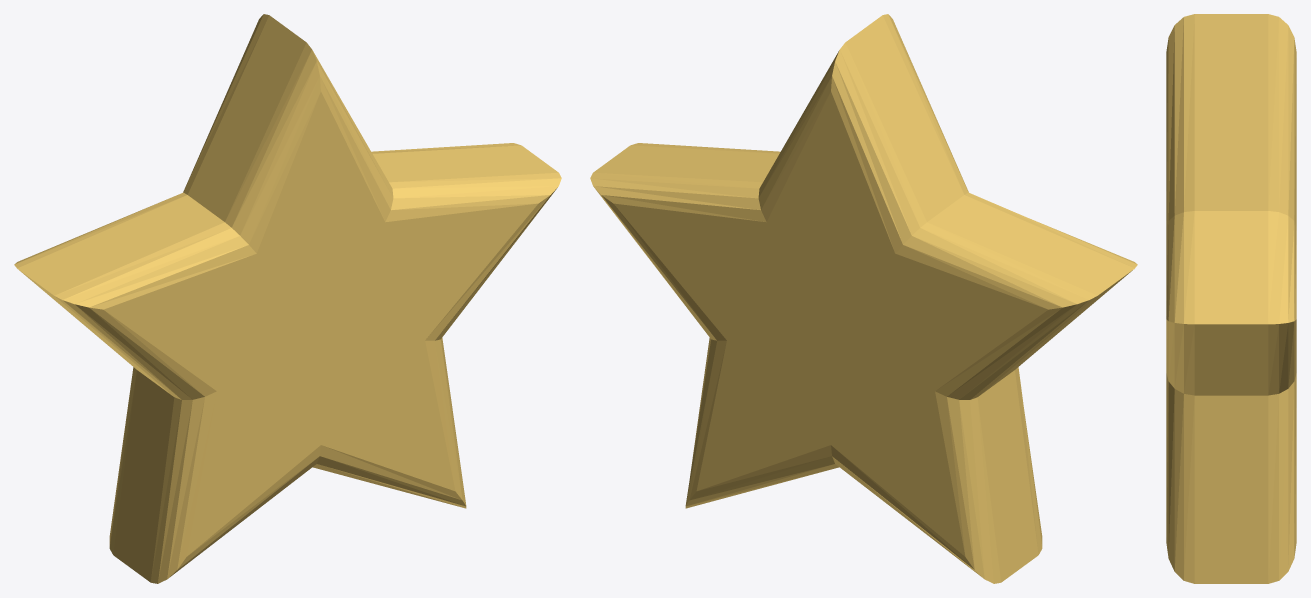
The model's file is star.glb.
3 views of the same model, side by side, from view 1: azimuth 30°, elevation 25°; view 2: azimuth 150°, elevation 25°; view 3: azimuth 270°, elevation 25° (orthographic).
Visible parts, largest first — view 1: Star_beveled_body; view 2: Star_beveled_body; view 3: Star_beveled_body.
Boxes of the visible parts, <box> form: Star_beveled_body: <box>14,14,561,583</box>; Star_beveled_body: <box>590,14,1137,583</box>; Star_beveled_body: <box>1166,14,1296,583</box>.
Size of the model in its own units: 0.5074 by 0.4826 by 0.115.
